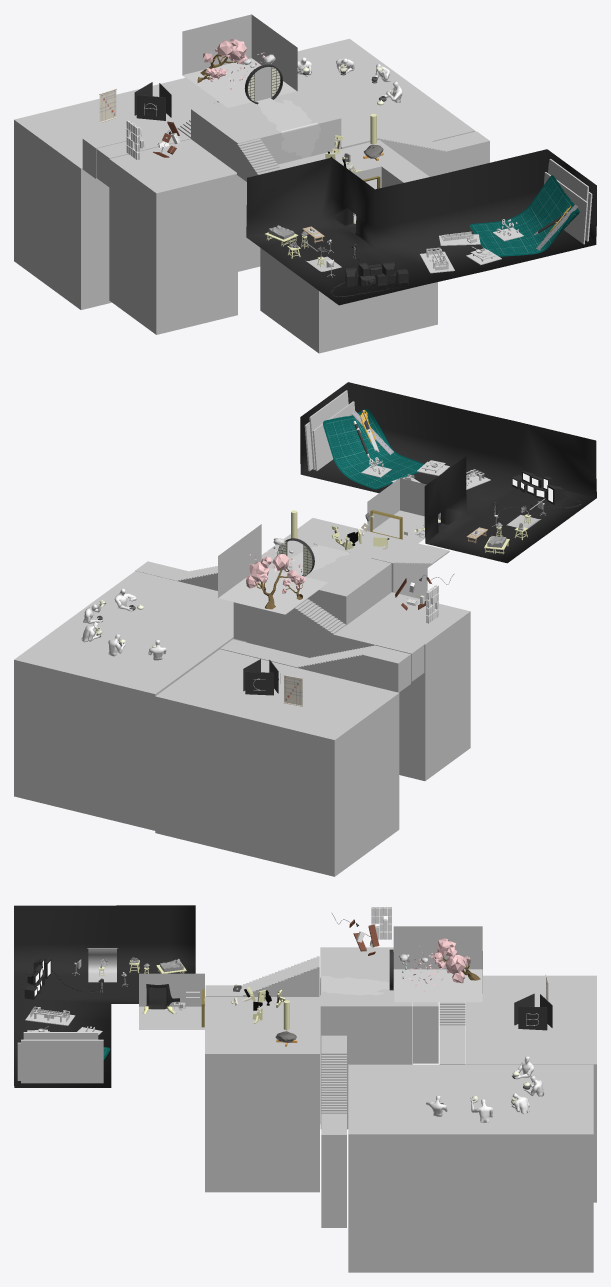
File: stage-test-19.glb
3 renders of one model, top to bottom at view 1: azimuth 30°, elevation 25°; view 2: azimuth 150°, elevation 25°; view 3: azimuth 270°, elevation 25°, orthographic. The views are drawn at different scales.
Visible parts, largest first — view 1: gallery-architecture-joined, monitor-screen-world, digital-world, scenery-reflection-on-the-ground-new, cutting-mat, foam-board-03, comforting-dinner-baked-johns.003, typo-A-backwall.001, foam-board-02, tree-leaves-low-poly.009, glass-brick-window-modified, scenery-window-mask (+2 smaller); view 2: gallery-architecture-joined, monitor-screen-world, cutting-mat, scenery-reflection-on-the-ground-new, room, digital-world, comforting-dinner-baked-johns.003, foam-board-03, tree-leaves-low-poly.009, foam-board-02, typo-C-backwall.001; view 3: gallery-architecture-joined, monitor-screen-world, scenery-reflection-on-the-ground-new, foam-board-01, digital-world, room, comforting-dinner-baked-johns.003, photo-screen.001, tree-leaves-low-poly.009, typo-B-backwall.001, foam-board-02, glass-brick-window-modified.
Part boxes in pixels (box(x1,y1,x2,y2)): gallery-architecture-joined: box(14, 38, 489, 353); monitor-screen-world: box(246, 149, 596, 305); digital-world: box(182, 14, 297, 108); scenery-reflection-on-the-ground-new: box(183, 58, 320, 158); cutting-mat: box(469, 175, 579, 256); foam-board-03: box(544, 172, 587, 244); comforting-dinner-baked-johns.003: box(297, 57, 402, 102); typo-A-backwall.001: box(136, 95, 165, 120); foam-board-02: box(548, 159, 588, 202); tree-leaves-low-poly.009: box(202, 39, 247, 64); glass-brick-window-modified: box(126, 120, 144, 160); scenery-window-mask: box(255, 64, 271, 102); gallery-architecture-joined: box(14, 518, 470, 876); monitor-screen-world: box(300, 382, 596, 563); cutting-mat: box(323, 409, 424, 489); scenery-reflection-on-the-ground-new: box(219, 543, 349, 614); room: box(367, 478, 440, 543); digital-world: box(218, 524, 328, 614); comforting-dinner-baked-johns.003: box(81, 588, 166, 660); foam-board-03: box(312, 401, 354, 471); tree-leaves-low-poly.009: box(246, 554, 297, 588); foam-board-02: box(309, 390, 348, 469); typo-C-backwall.001: box(245, 671, 273, 695); gallery-architecture-joined: box(205, 947, 596, 1272); monitor-screen-world: box(14, 905, 195, 1087); scenery-reflection-on-the-ground-new: box(320, 969, 482, 1002); foam-board-01: box(21, 1039, 103, 1083); digital-world: box(393, 926, 482, 1002); room: box(139, 973, 204, 1029); comforting-dinner-baked-johns.003: box(426, 1056, 543, 1122); photo-screen.001: box(88, 948, 116, 982); tree-leaves-low-poly.009: box(437, 938, 470, 983); typo-B-backwall.001: box(518, 1006, 547, 1030); foam-board-02: box(23, 1032, 98, 1039); glass-brick-window-modified: box(371, 907, 391, 939).
Bounding box in the file's own units: 583 × 409 × 899.
62 materials, 3 textured.
